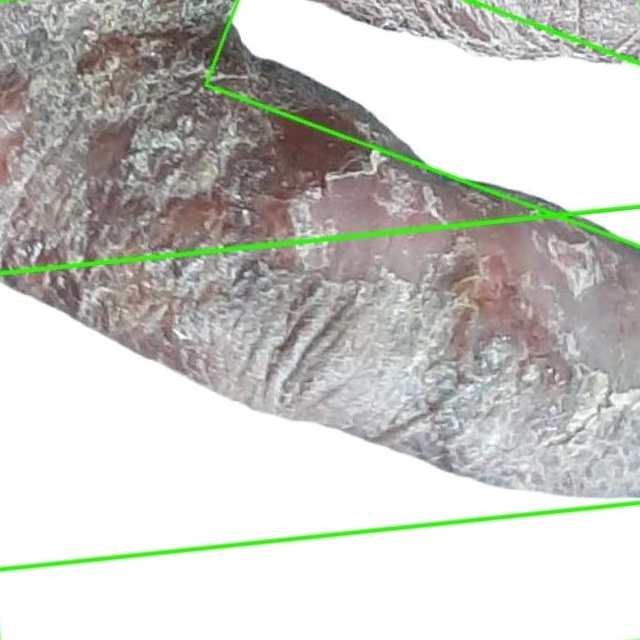Eczema: (0, 0, 639, 569), (0, 206, 639, 639), (201, 0, 639, 246)
